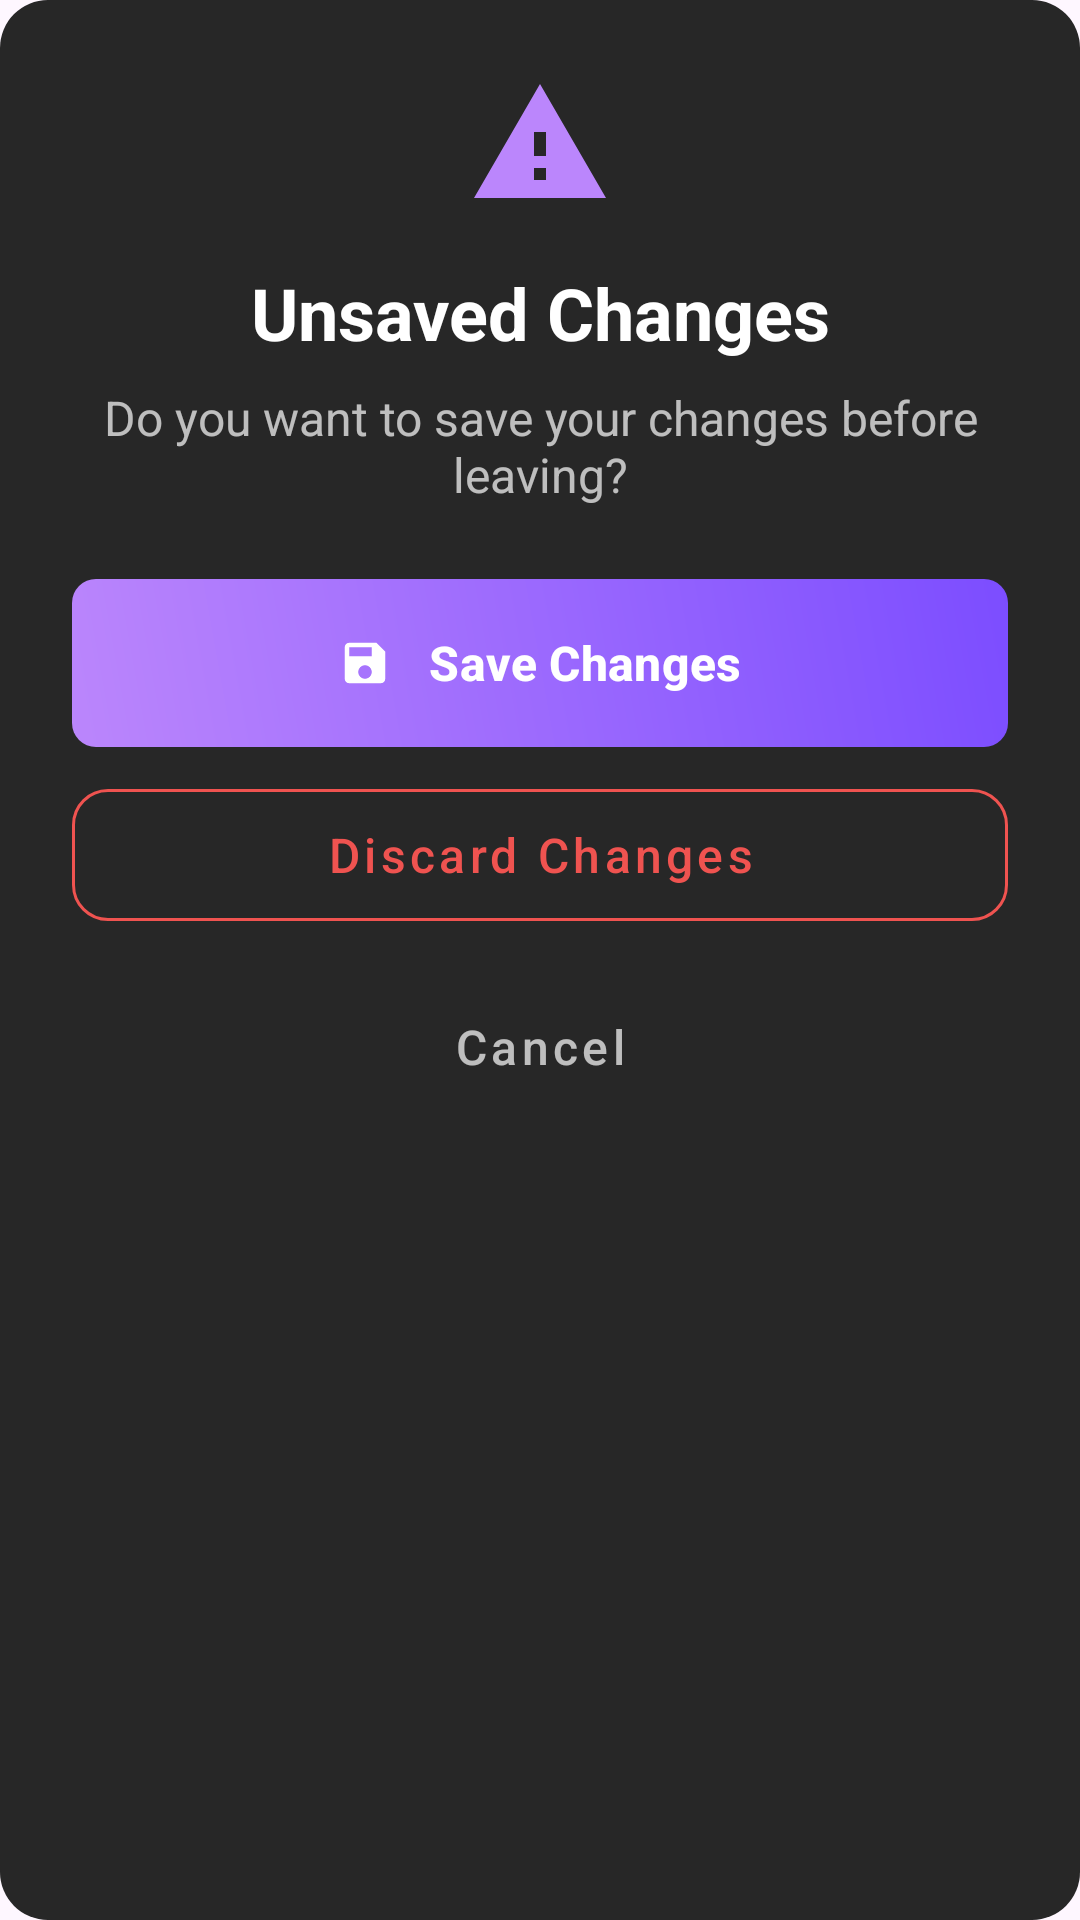

Where icons sit on this 1080×1920 app screen, as [left=x1, top=y1, right=x2, bottom=y2]:
warning: [left=474, top=84, right=606, bottom=198]
